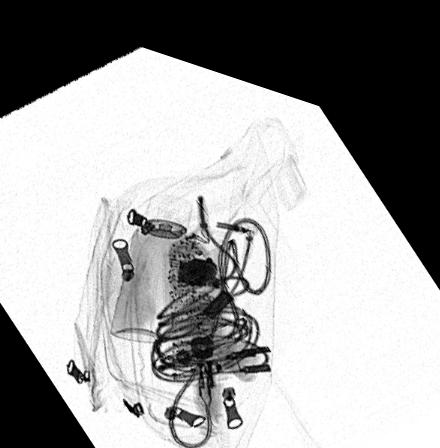Sprayer: (109, 182, 191, 333)
